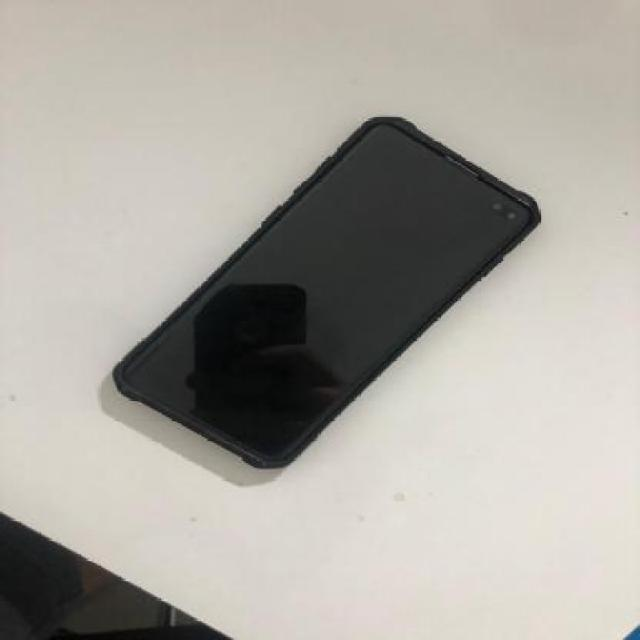phone: (113, 119, 541, 473)
